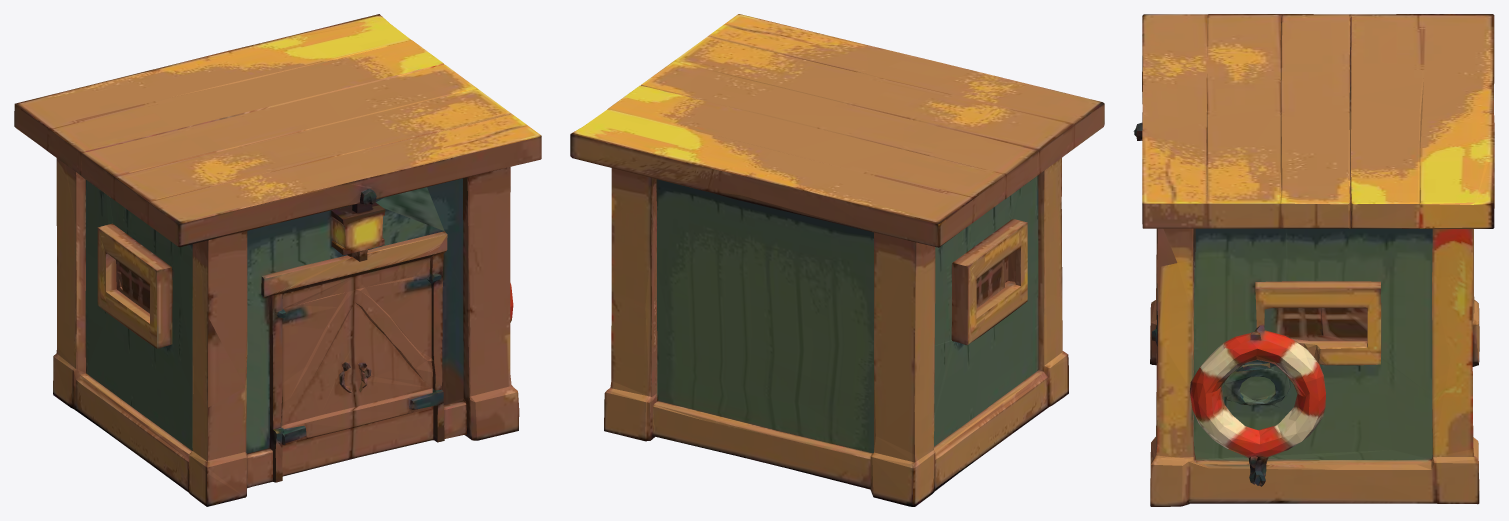
Rendered from capanno.glb.
3 views of the same model, side by side, from view 1: azimuth 30°, elevation 25°; view 2: azimuth 150°, elevation 25°; view 3: azimuth 270°, elevation 25° (orthographic). The views are drawn at different scales.
Parts seen in each view (by area): view 1: geometry_0; view 2: geometry_0; view 3: geometry_0.
Boxes of the visible parts, <box> form: geometry_0: <box>14,14,541,506</box>; geometry_0: <box>570,14,1104,506</box>; geometry_0: <box>1133,14,1494,506</box>.
Size of the model in its own units: 4.37 by 3.36 by 3.5.
Materials: 1 (1 with a texture image).
